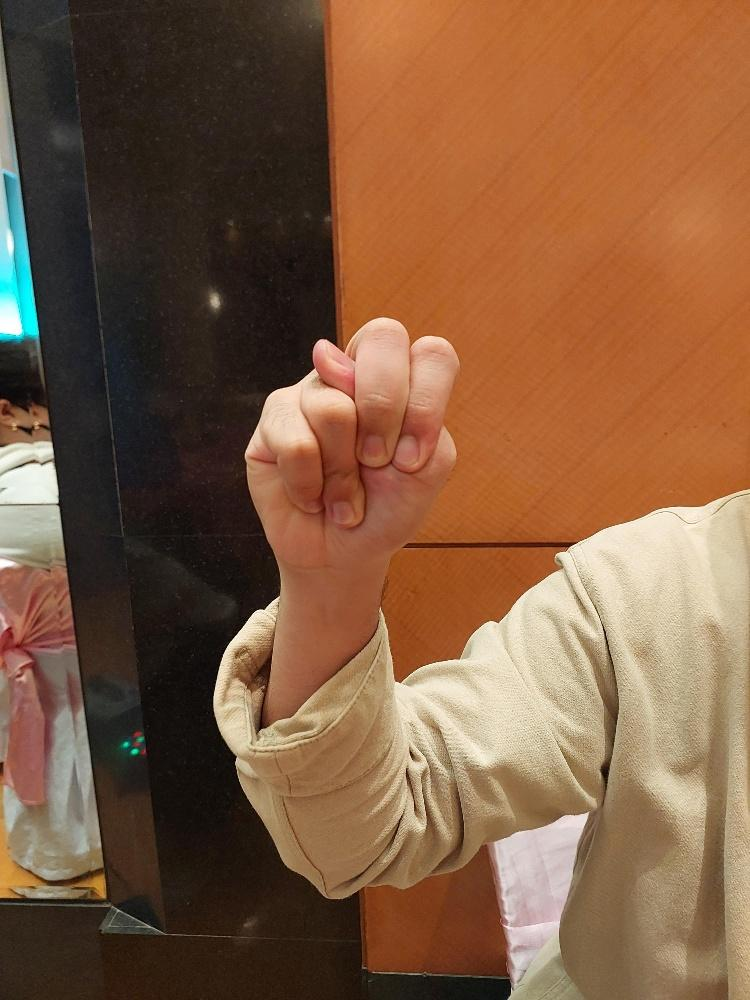n: (242, 314, 460, 573)
